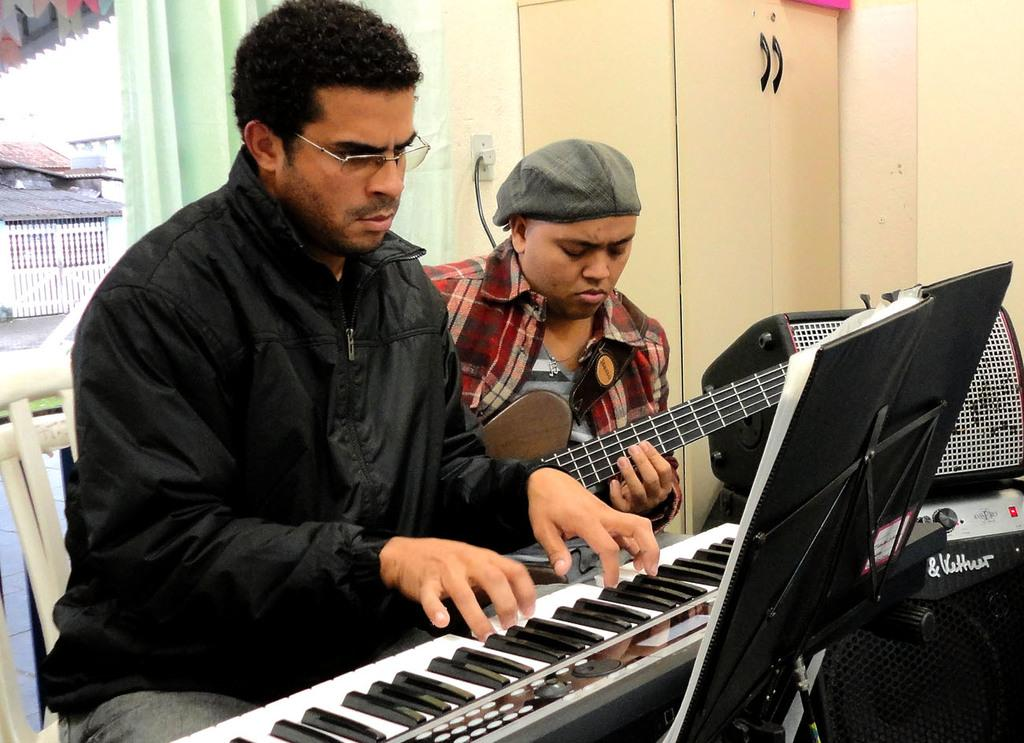Pessoa: (41, 0, 658, 742), (426, 139, 668, 445)
